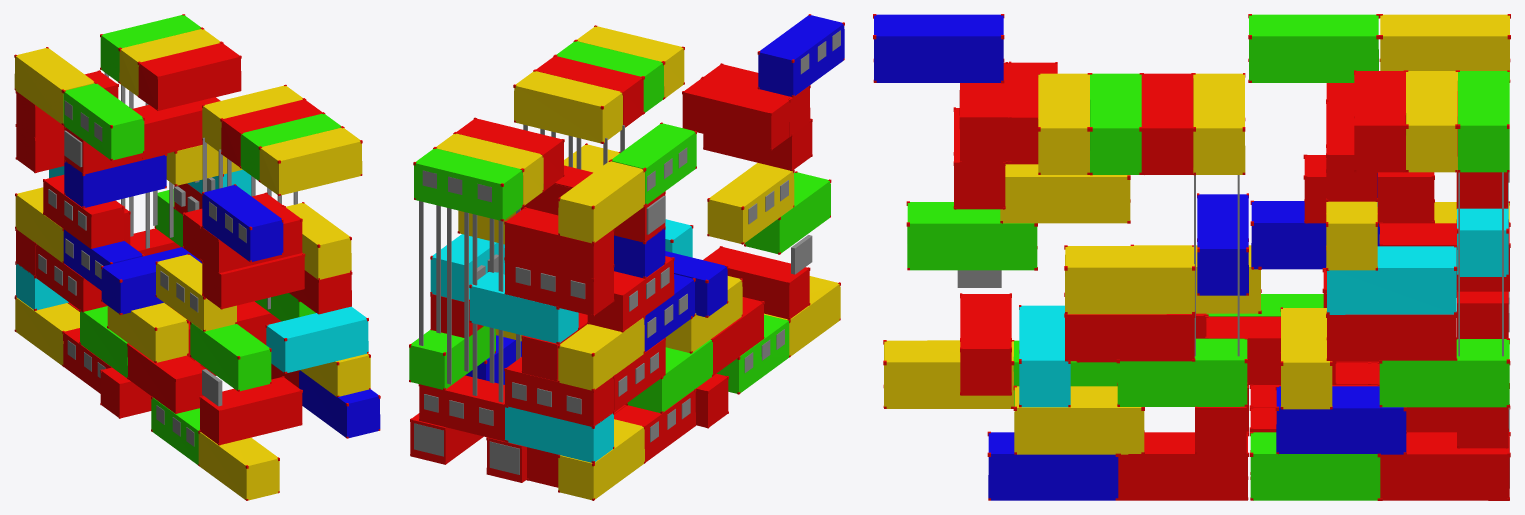
Rendered from ParentPart17FBX.FBX.
3 views of the same model, side by side, from view 1: azimuth 30°, elevation 25°; view 2: azimuth 150°, elevation 25°; view 3: azimuth 270°, elevation 25° (orthographic). The views are drawn at different scales.
Parts seen in each view (by area): view 1: ParentPart17; view 2: ParentPart17; view 3: ParentPart17.
Boxes of the visible parts, x1,y1,x2,y2 form: ParentPart17: [14, 14, 380, 500]; ParentPart17: [409, 14, 844, 500]; ParentPart17: [873, 14, 1510, 500].
Size of the model in its own units: 4.63 by 10.08 by 6.51.
